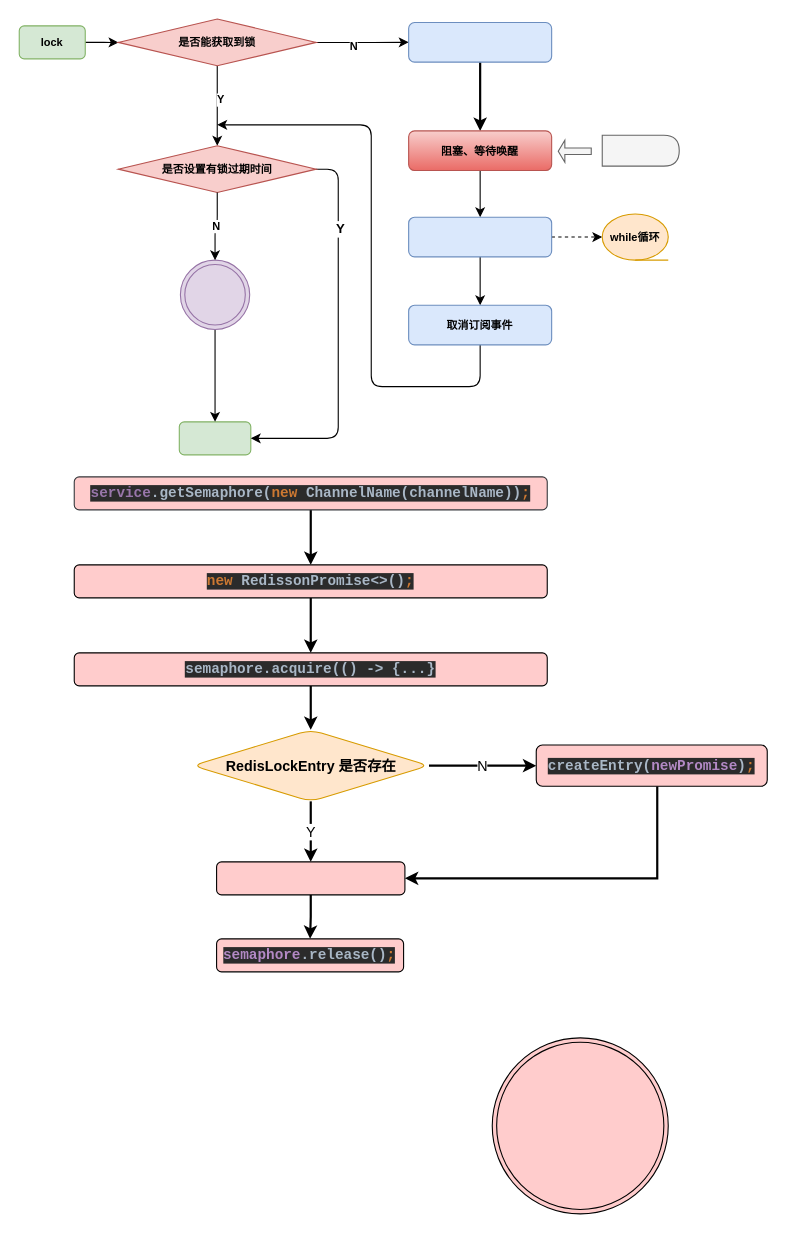
Some shapes in this 787 by 1234 pixel diagram are drawn without their labels. Each missing label, with the centre of its shape:
entry.acquire() ;: point 310,878
其他线程释放锁并发布消息: point 640,150
发布订阅事件: point 480,41
尝试获取锁直至成功为止: point 480,236
看门狗续命: point 214,294
结束: point 214,438
